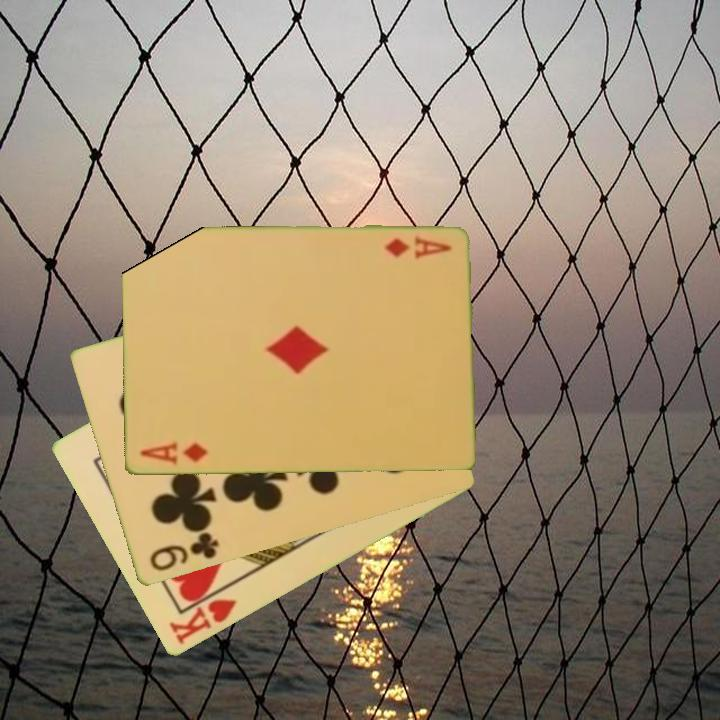9c: (145, 529, 222, 575)
Ad: (136, 439, 210, 469), (381, 233, 455, 262)
Kh: (165, 582, 240, 648)
